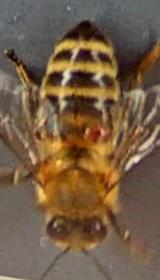varroa_mite: (80, 119, 110, 144)
